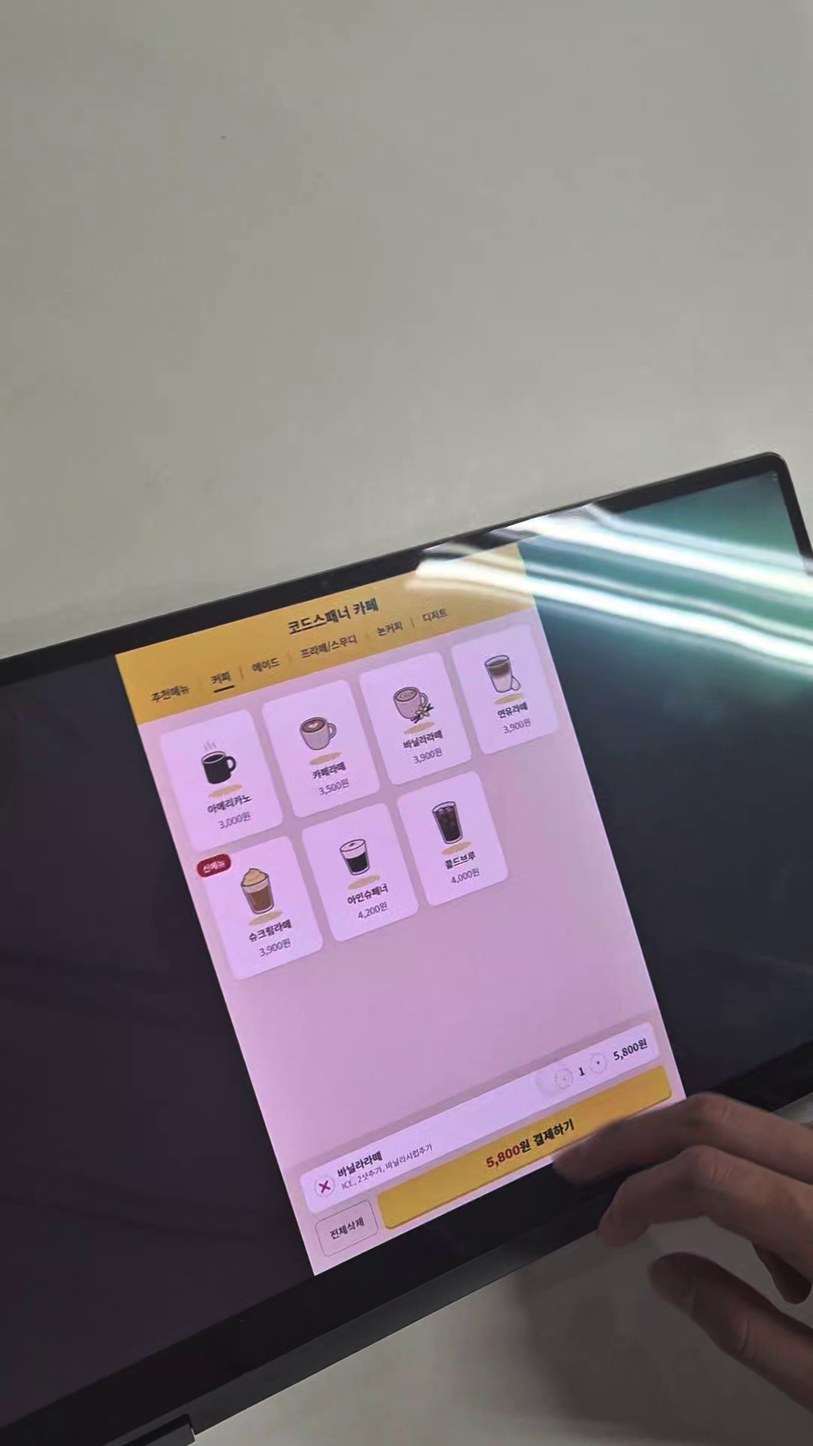action_button: (379, 1066, 669, 1228), (316, 1201, 377, 1255)
cart_item: (300, 1023, 661, 1214)
menu_back: (160, 710, 282, 850), (300, 805, 422, 945), (262, 679, 384, 818), (201, 836, 323, 975), (360, 653, 471, 785), (398, 772, 507, 904), (452, 627, 557, 753)
menu_name: (297, 630, 361, 662), (145, 677, 196, 713), (303, 756, 357, 787), (243, 915, 297, 946), (340, 879, 394, 910), (433, 846, 487, 877), (485, 697, 539, 728), (200, 790, 254, 820), (396, 726, 450, 756), (247, 654, 284, 677), (373, 618, 407, 641), (419, 606, 452, 626), (207, 670, 233, 689)
menu_price: (312, 776, 357, 802), (252, 936, 297, 962), (211, 808, 255, 834), (351, 900, 395, 926), (443, 865, 487, 891), (406, 744, 450, 770), (494, 715, 538, 741)
